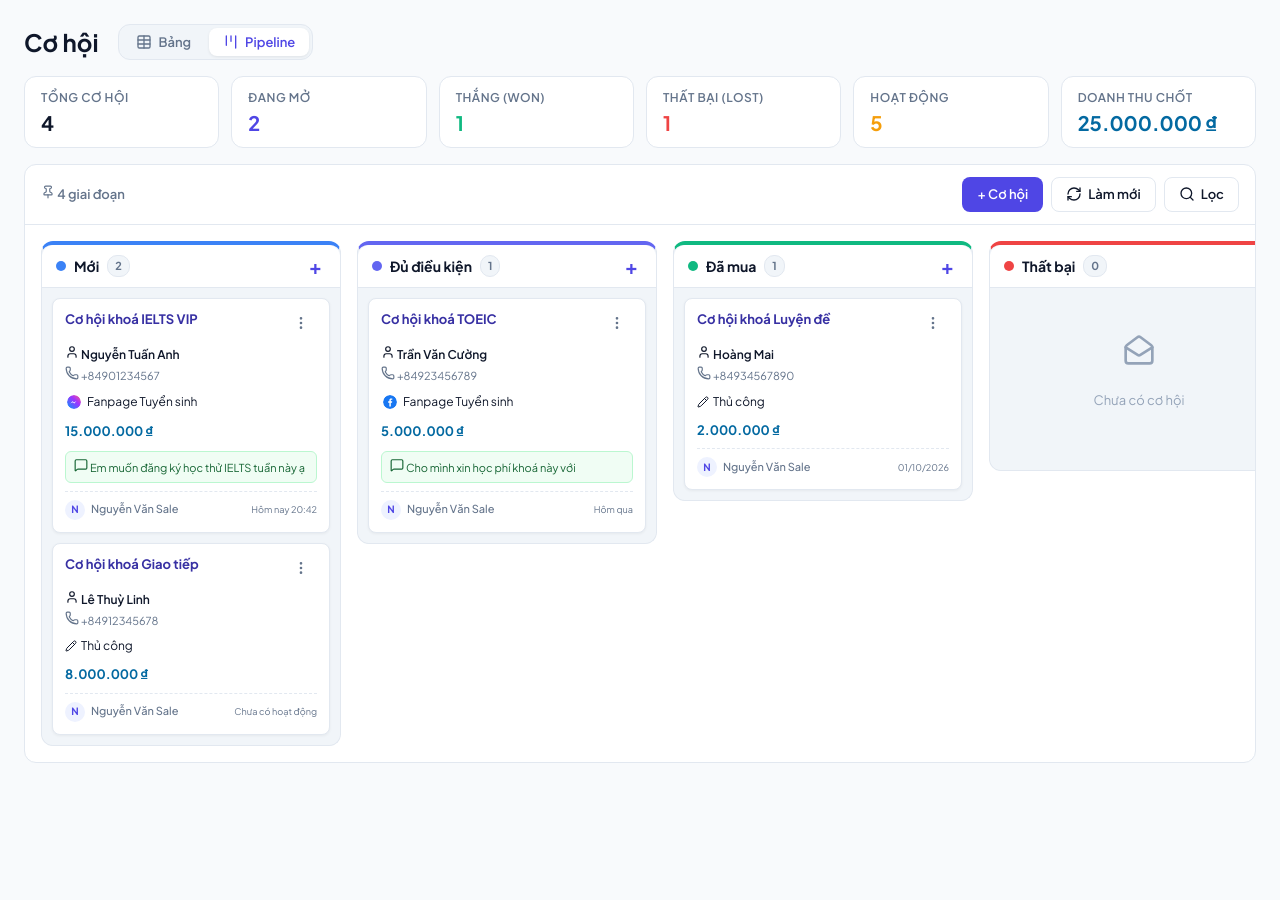
it: AC fd9216b3 (c)(d) — Opportunities Pipeline Kanban › AC fd9216b3 (c) — Pipeline Columns, Cards, Drag & Drop, Snippet, Load More › nút "+" trên cột mở form tạo cơ hội với stageId điền sẵn
# Click "+" on stage 2
Click the button with test id "btn-add-opp-stage-stg-2": coordinates (631, 266) [621, 256, 642, 276]
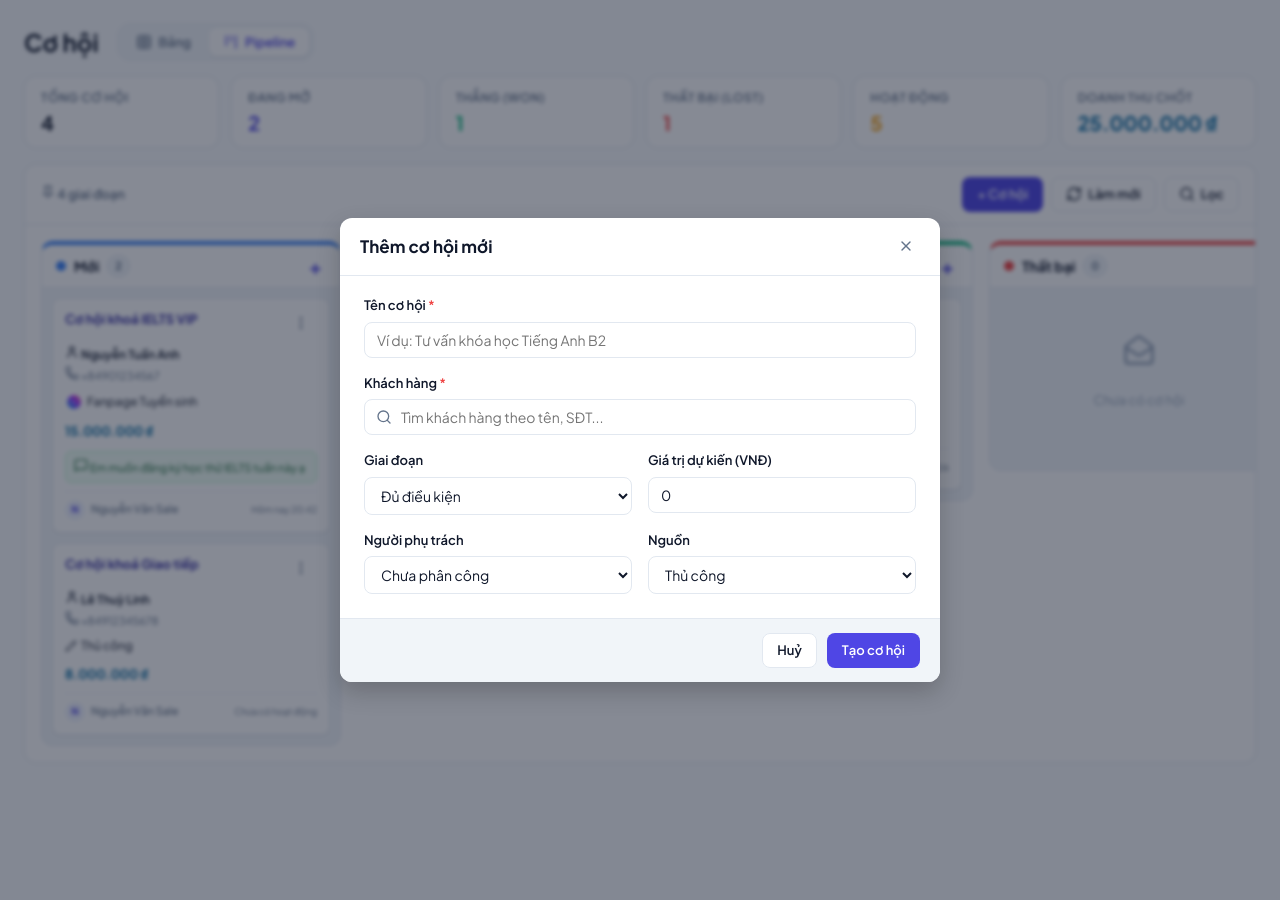
Now the dialog with test id "opportunity-form-modal" is shown
Now the dropdown with test id "select-form-stage" shows "Đủ điều kiện", box [364, 477, 632, 515]
